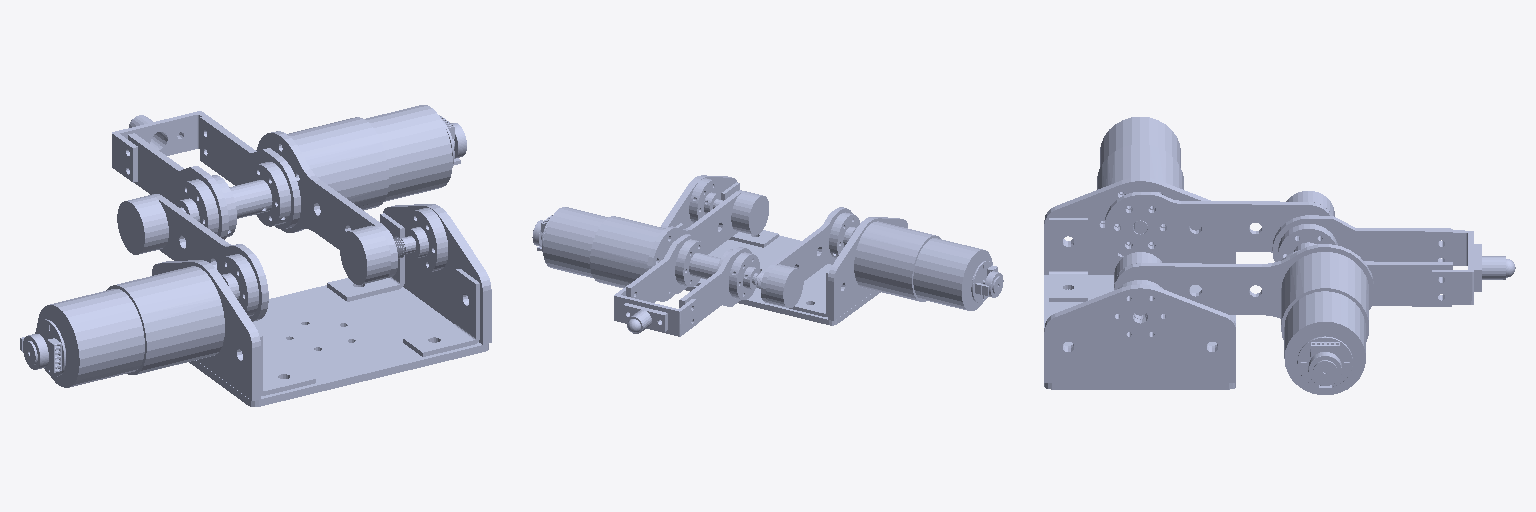
URDF robot description (my_robot):
<robot name="my_robot">
  <link name="base_link">
    <inertial>
      <origin xyz="-0.045568 -6.0363e-06 0.016416" rpy="0 0 0"/>
      <mass value="0.12503"/>
      <inertia ixx="3.9011e-05" ixy="-4.4034e-10" ixz="-9.4868e-09"
               iyy="5.9546e-05" iyz="1.2812e-09" izz="8.1796e-05"/>
    </inertial>
    <visual name="base_link_visual">
      <origin xyz="0 0 0" rpy="0 0 0"/>
      <geometry>
        <mesh filename="package://my_robot_planar/meshes/base_link.STL" scale="1 1 1"/>
      </geometry>
      <material name="gray_blue">
        <color rgba="0.79216 0.81961 0.93333 1"/>
      </material>
    </visual>
    <collision name="base_link_collision">
      <origin xyz="0 0 0" rpy="0 0 0"/>
      <geometry>
        <mesh filename="package://my_robot_planar/meshes/base_link.STL" scale="1 1 1"/>
      </geometry>
    </collision>
  </link>

  <joint name="joint1" type="revolute">
    <origin xyz="-0.043204 -0.00013674 0.030451" rpy="-1.5708 -1.5271 1.5708"/>
    <parent link="base_link"/>
    <child link="Motor1_Link"/>
    <axis xyz="0 0 1"/>
    <limit lower="-3.1416" upper="3.1416" effort="100" velocity="100"/>
    <dynamics damping="0.1" friction="0.1"/>
  </joint>

  <link name="Motor1_Link">
    <inertial>
      <origin xyz="0.002191 0.064828 -0.085027" rpy="0 0 0"/>
      <mass value="0.094024"/>
      <inertia ixx="3.9845e-05" ixy="-3.4856e-07" ixz="6.7838e-10"
               iyy="2.9913e-05" iyz="9.5762e-09" izz="2.2849e-05"/>
    </inertial>
    <visual name="Motor1_Link_visual">
      <origin xyz="0 0 0" rpy="0 0 0"/>
      <geometry>
        <mesh filename="package://my_robot_planar/meshes/Motor1_Link.STL" scale="1 1 1"/>
      </geometry>
      <material name="gray_blue">
        <color rgba="0.79216 0.81961 0.93333 1"/>
      </material>
    </visual>
    <collision name="Motor1_Link_collision">
      <origin xyz="0 0 0" rpy="0 0 0"/>
      <geometry>
        <mesh filename="package://my_robot_planar/meshes/Motor1_Link.STL" scale="1 1 1"/>
      </geometry>
    </collision>
  </link>

  <joint name="joint2" type="revolute">
    <origin xyz="0.0024029 0.070153 -0.047398" rpy="0 0 -0.55803"/>
    <parent link="Motor1_Link"/>
    <child link="Motor2_Link"/>
    <axis xyz="0 0 1"/>
    <limit lower="-3.1416" upper="3.1416" effort="100" velocity="100"/>
    <dynamics damping="0.1" friction="0.1"/>
  </joint>

  <link name="Motor2_Link">
    <inertial>
      <origin xyz="-0.0095616 0.016516 0.0024794" rpy="0 0 0"/>
      <mass value="0.022468"/>
      <inertia ixx="5.2162e-06" ixy="1.6765e-06" ixz="6.8852e-15"
               iyy="3.2892e-06" iyz="1.1051e-11" izz="5.5835e-06"/>
    </inertial>
    <visual name="Motor2_Link_visual">
      <origin xyz="0 0 0" rpy="0 0 0"/>
      <geometry>
        <mesh filename="package://my_robot_planar/meshes/Motor2_Link.STL" scale="1 1 1"/>
      </geometry>
      <material name="gray_blue">
        <color rgba="0.79216 0.81961 0.93333 1"/>
      </material>
    </visual>
    <collision name="Motor2_Link_collision">
      <origin xyz="0 0 0" rpy="0 0 0"/>
      <geometry>
        <mesh filename="package://my_robot_planar/meshes/Motor2_Link.STL" scale="1 1 1"/>
      </geometry>
    </collision>
  </link>

  <joint name="joint_End" type="fixed">
    <origin xyz="-0.041151 0.071211 0" rpy="1.651 0.11053 -1.8717"/>
    <parent link="Motor2_Link"/>
    <child link="End_effctor_Link"/>
  </joint>

  <link name="End_effctor_Link">
    <inertial>
      <origin xyz="0 0 0" rpy="0 0 0"/>
      <mass value="0.00026808"/>
      <inertia ixx="1.7157e-09" ixy="0" ixz="0"
               iyy="1.7157e-09" iyz="0" izz="1.7157e-09"/>
    </inertial>
    <visual name="End_effctor_Link_visual">
      <origin xyz="0 0 0" rpy="0 0 0"/>
      <geometry>
        <mesh filename="package://my_robot_planar/meshes/End_effctor_Link.STL" scale="1 1 1"/>
      </geometry>
      <material name="gray_blue">
        <color rgba="0.79216 0.81961 0.93333 1"/>
      </material>
    </visual>
    <collision name="End_effctor_Link_collision">
      <origin xyz="0 0 0" rpy="0 0 0"/>
      <geometry>
        <mesh filename="package://my_robot_planar/meshes/End_effctor_Link.STL" scale="1 1 1"/>
      </geometry>
    </collision>
  </link>
</robot>

--- Facts derived from the render (not from the file) ---
Views: 3 orthographic renders of the robot side by side, from view 1: azimuth 30°, elevation 25°; view 2: azimuth 150°, elevation 25°; view 3: azimuth 270°, elevation 25°.
Model my_robot with 4 links and 3 joints (2 revolute, 1 fixed), rooted at base_link, posed all joints at 0.
Visible links, largest first — view 1: base_link, Motor1_Link, Motor2_Link; view 2: base_link, Motor1_Link, Motor2_Link; view 3: base_link, Motor1_Link, Motor2_Link.
Link boxes in pixels (x1,y1,x2,y2): base_link: (20,204,491,406); Motor1_Link: (117,105,466,321); Motor2_Link: (112,111,300,239); base_link: (661,175,1003,325); Motor1_Link: (532,190,859,307); Motor2_Link: (614,234,760,336); base_link: (1044,117,1235,389); Motor1_Link: (1105,191,1373,394); Motor2_Link: (1272,215,1505,306).
Bounding box of the posed robot: 0.2423 × 0.1963 × 0.0533 m (x, y, z).
4 mesh visuals loaded from 4 distinct referenced files (4 binary STL).